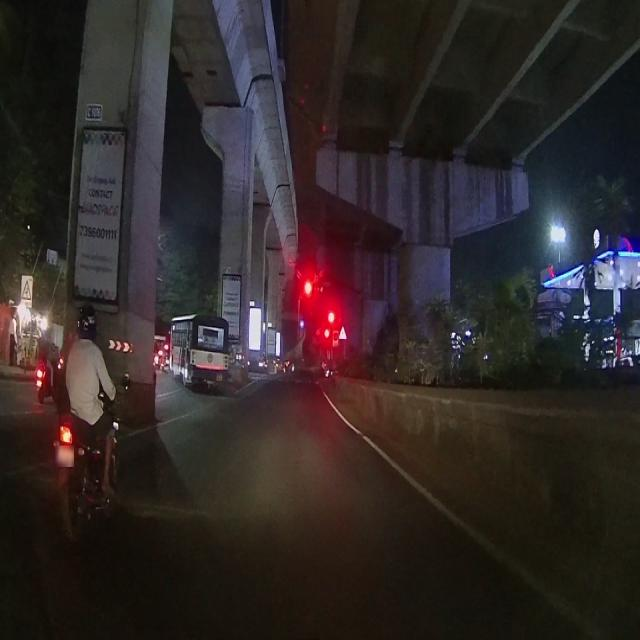side-road-left: (20, 272, 34, 302)
